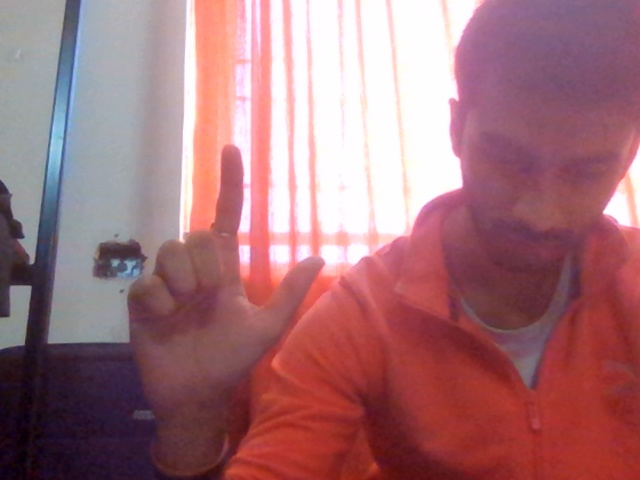L: (106, 126, 366, 463)
